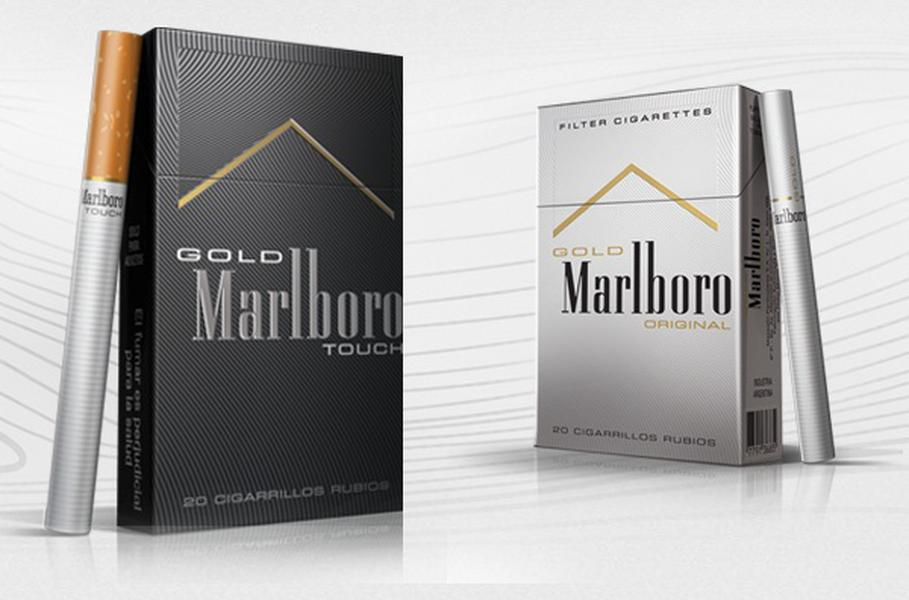marlboro_gold: (538, 104, 744, 445)
